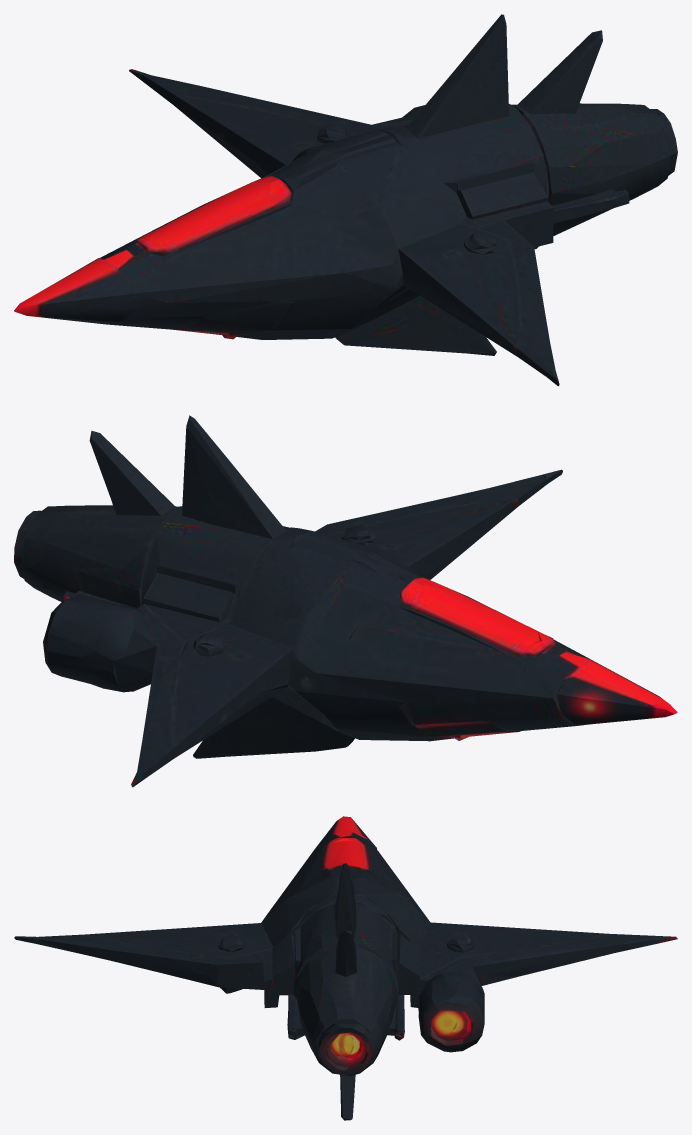
File: kamikaze.glb
The picture shows the model from 3 angles, top to bottom: view 1: azimuth 30°, elevation 25°; view 2: azimuth 150°, elevation 25°; view 3: azimuth 270°, elevation 25°; orthographic projection. The views are drawn at different scales.
Size of the model in its own units: 1.65 by 0.8244 by 1.9.
1 material, 1 textured.
